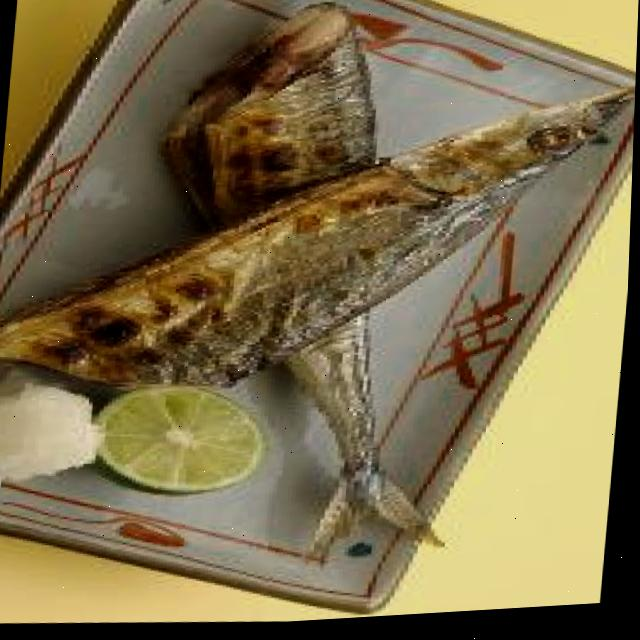熟制海鲜: (11, 0, 561, 562)
